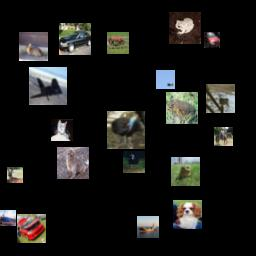airplane: (29, 67, 67, 105), (156, 70, 175, 89)
automobile: (59, 23, 91, 55), (17, 214, 46, 243), (204, 32, 220, 48)
bird: (107, 111, 145, 149), (123, 151, 145, 173)
cat: (51, 119, 73, 141)
deer: (19, 32, 48, 61), (206, 84, 235, 113), (7, 167, 23, 183)
dog: (57, 147, 89, 179), (173, 200, 202, 229)
frog: (166, 92, 198, 124), (169, 12, 201, 44), (171, 157, 200, 186)
ship: (137, 216, 159, 238), (0, 210, 16, 226)
